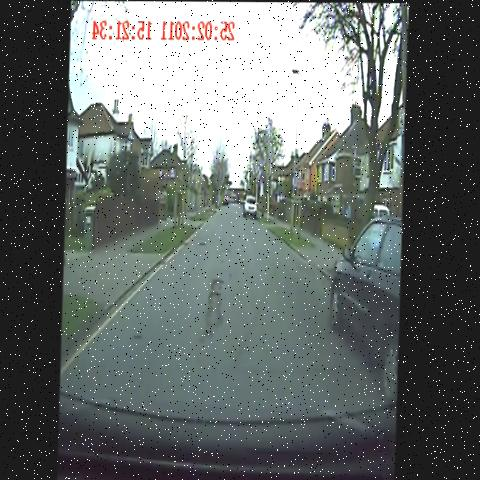pothole: (195, 272, 235, 353), (219, 241, 240, 271), (130, 323, 149, 350), (197, 230, 211, 256)
